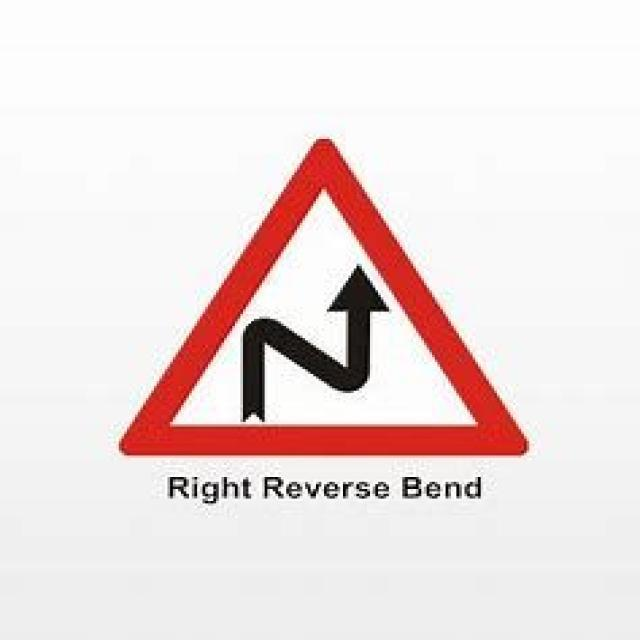right reverse bend: (117, 136, 528, 455)
